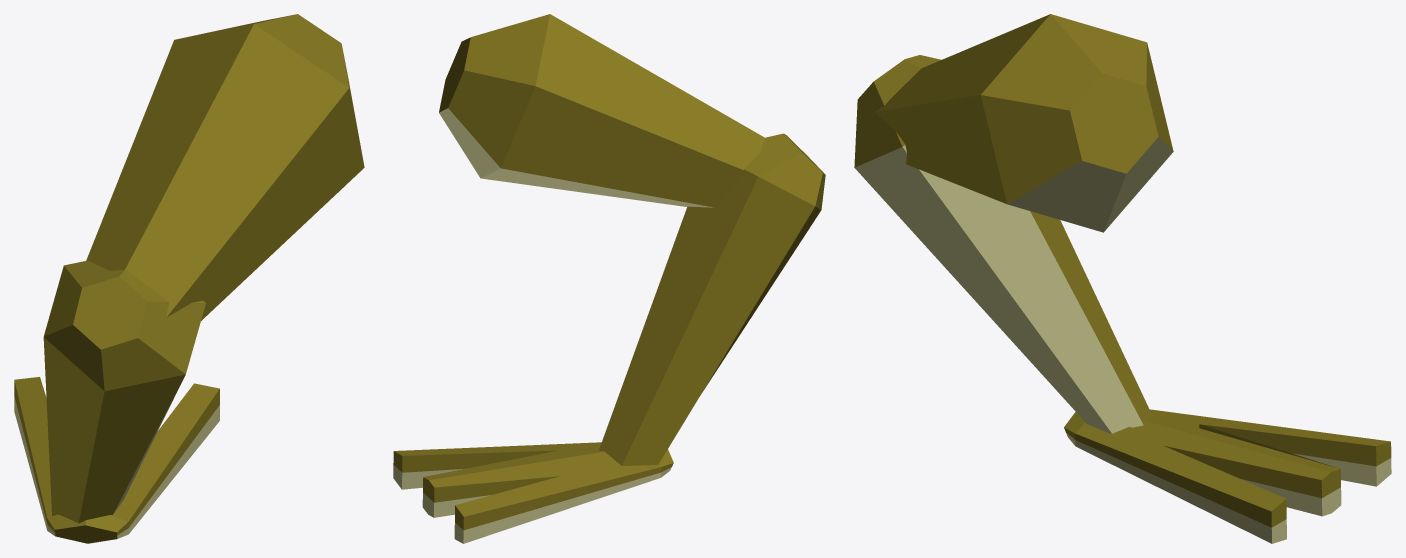
The model's file is esimene jalg vasak.fbx.
3 views of the same model, side by side, from view 1: azimuth 30°, elevation 25°; view 2: azimuth 150°, elevation 25°; view 3: azimuth 270°, elevation 25° (orthographic). The views are drawn at different scales.
Visible parts, largest first — view 1: esijalg vasak; view 2: esijalg vasak; view 3: esijalg vasak.
Part boxes in pixels (bbox=[...]): esijalg vasak: bbox=[14, 14, 364, 543]; esijalg vasak: bbox=[393, 14, 825, 543]; esijalg vasak: bbox=[854, 14, 1391, 543].
Size of the model in its own units: 12.28 by 15.71 by 15.35.
